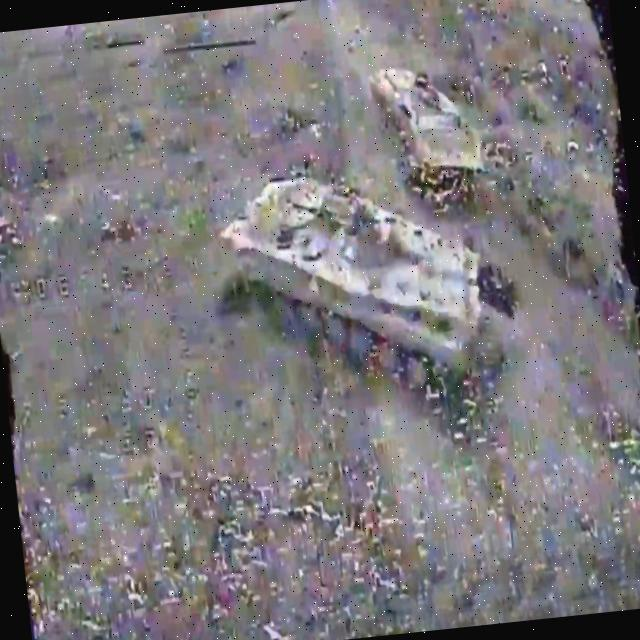AIFV: (209, 144, 499, 429), (366, 50, 488, 203)
